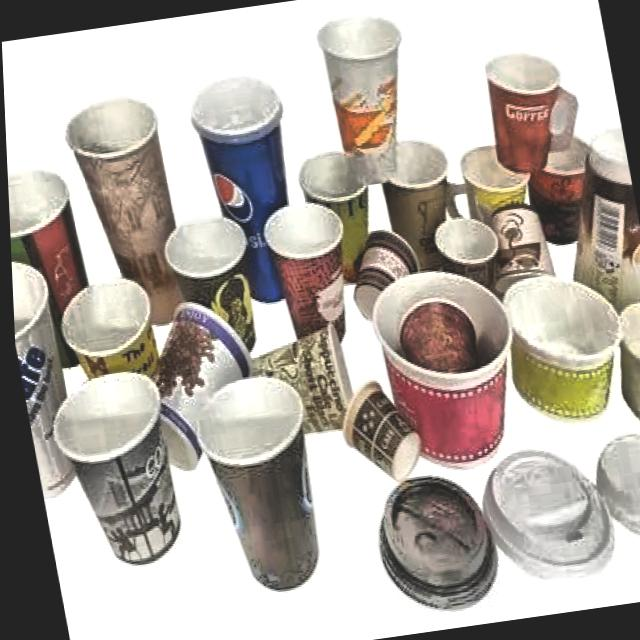Cup: (181, 366, 344, 607), (353, 257, 524, 477), (53, 86, 197, 334), (180, 66, 315, 306), (37, 363, 194, 568), (124, 294, 262, 472), (52, 261, 182, 449), (495, 271, 635, 434), (5, 154, 100, 369), (309, 0, 418, 185), (150, 196, 258, 360), (9, 250, 82, 491), (557, 125, 640, 333), (476, 44, 589, 188), (255, 194, 357, 349), (370, 126, 466, 279), (236, 331, 360, 437), (449, 126, 552, 251), (295, 144, 378, 284), (518, 119, 605, 250), (332, 376, 420, 481), (342, 219, 422, 319), (429, 208, 514, 302), (488, 197, 557, 293)
